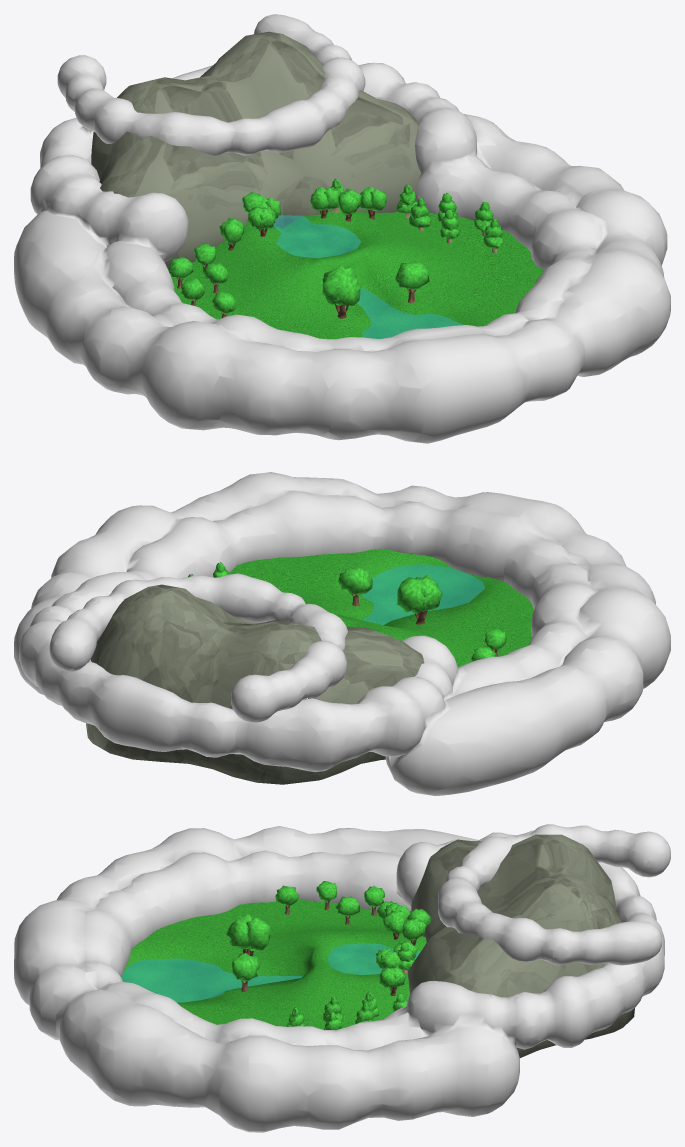
The model's file is reelworld.glb.
3 views of the same model, one above another, from view 1: azimuth 30°, elevation 25°; view 2: azimuth 150°, elevation 25°; view 3: azimuth 270°, elevation 25° (orthographic). The views are drawn at different scales.
Parts seen in each view (by area): view 1: clouds, mountains, ground, water.001, water, tree2.006, tree1.005; view 2: clouds, mountains, ground, water, tree2.006, tree1.005; view 3: clouds, ground, mountains, water, water.001, tree2.006, tree1.005, tree2.004.
Boxes of the visible parts, x1=… form: clouds: x1=14, y1=14, x2=670, y2=443; mountains: x1=91, y1=31, x2=420, y2=269; ground: x1=168, y1=208, x2=544, y2=339; water.001: x1=273, y1=215, x2=361, y2=258; water: x1=357, y1=287, x2=463, y2=338; tree2.006: x1=322, y1=265, x2=361, y2=318; tree1.005: x1=395, y1=261, x2=429, y2=303; clouds: x1=14, y1=472, x2=670, y2=795; mountains: x1=86, y1=584, x2=424, y2=784; ground: x1=228, y1=549, x2=533, y2=667; water: x1=362, y1=564, x2=484, y2=624; tree2.006: x1=397, y1=574, x2=442, y2=624; tree1.005: x1=338, y1=565, x2=372, y2=606; clouds: x1=14, y1=824, x2=670, y2=1132; ground: x1=121, y1=899, x2=426, y2=1029; mountains: x1=408, y1=834, x2=634, y2=1057; water: x1=121, y1=958, x2=302, y2=1002; water.001: x1=328, y1=943, x2=420, y2=974; tree2.006: x1=226, y1=914, x2=271, y2=956; tree1.005: x1=232, y1=952, x2=259, y2=991; tree2.004: x1=379, y1=966, x2=405, y2=995.
Bounding box in the file's own units: 136 × 41.73 × 147.
Materials: 8 (6 with a texture image).
